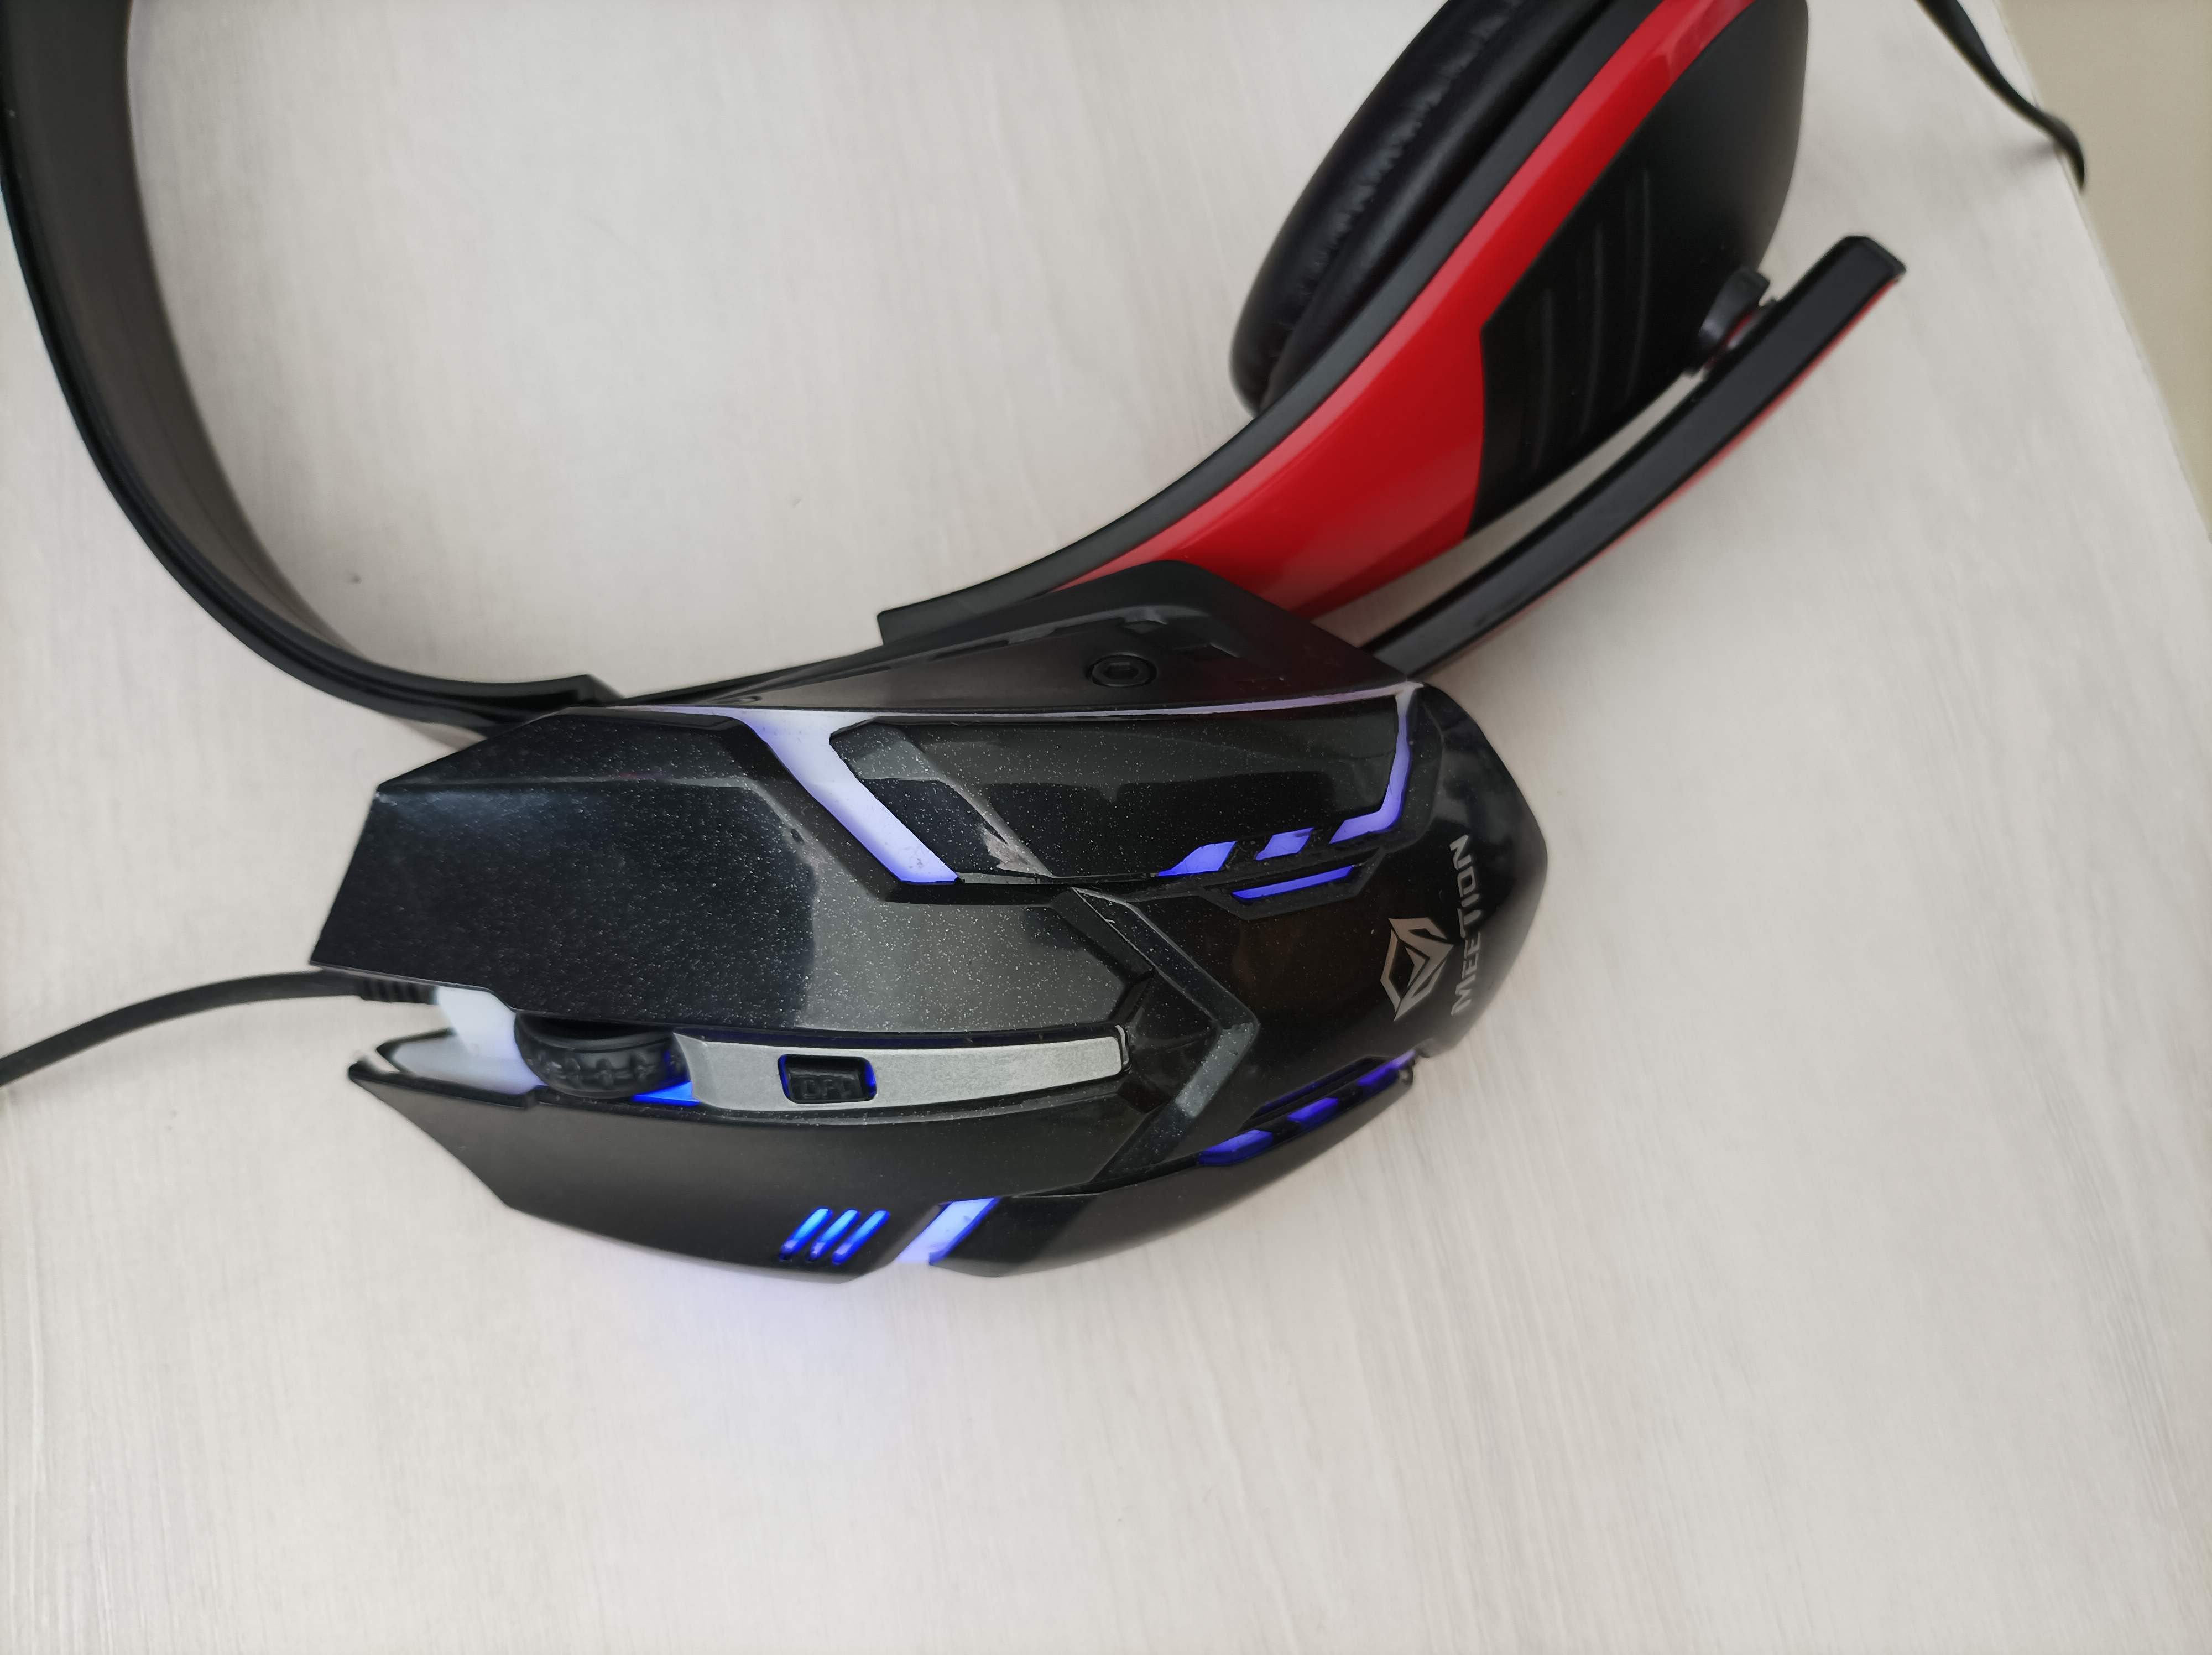mouse: (288, 556, 1559, 1293)
